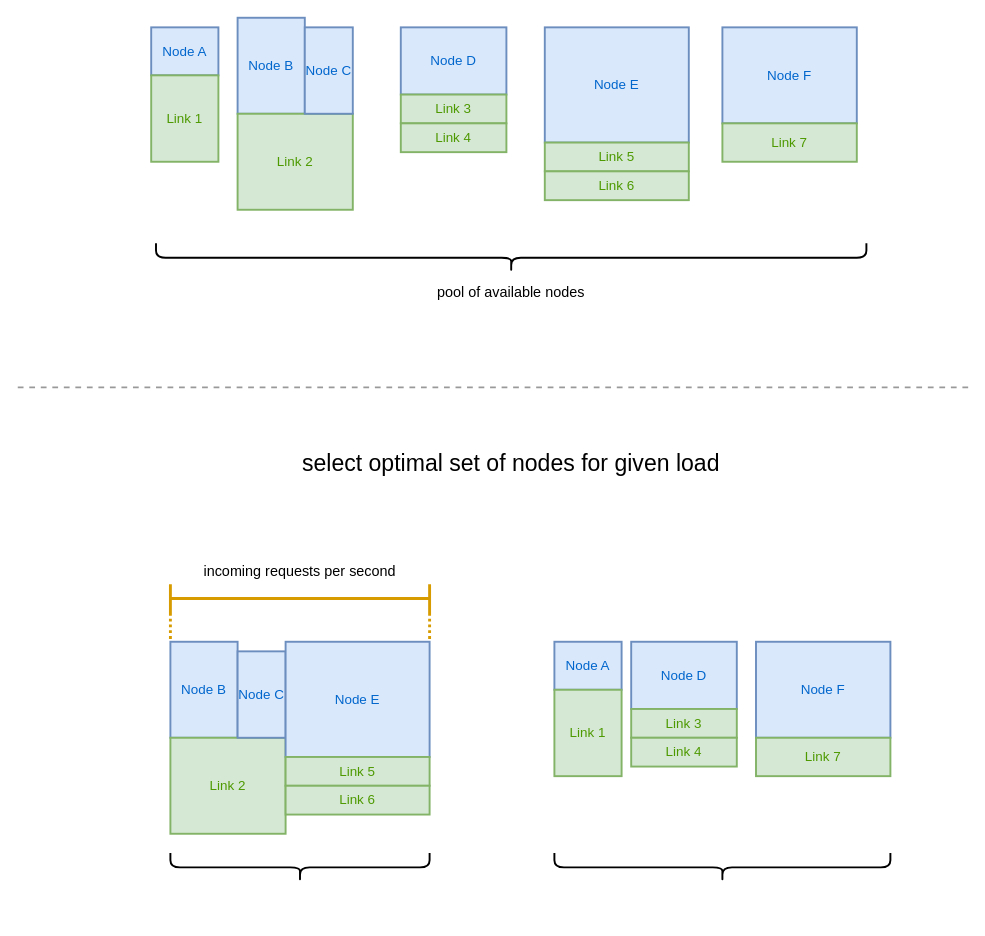
The diagram is 985 pixels wide and 936 high, and some of its shapes have lost their labels. The box of each missing label's shape, as (x1, y1, x2, y2) in pixels:
nodes and dependent links not included: (553, 852, 891, 882)
selected nodes and dependent links: (169, 852, 430, 882)
